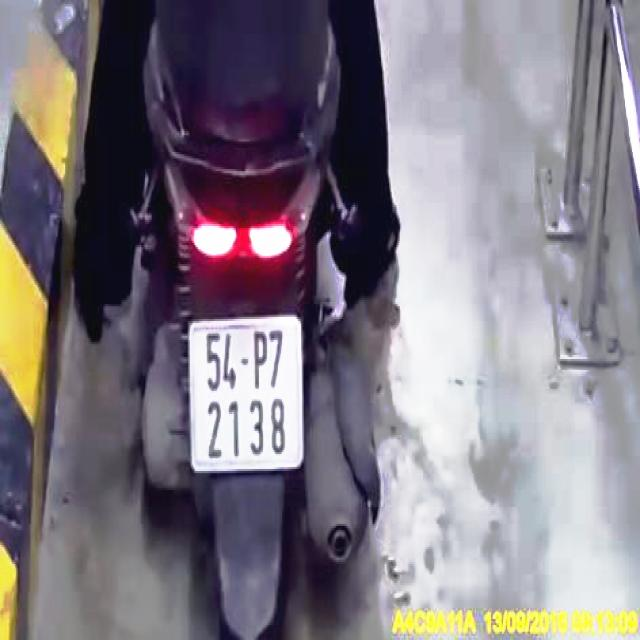license_plate: (190, 323, 305, 465)
